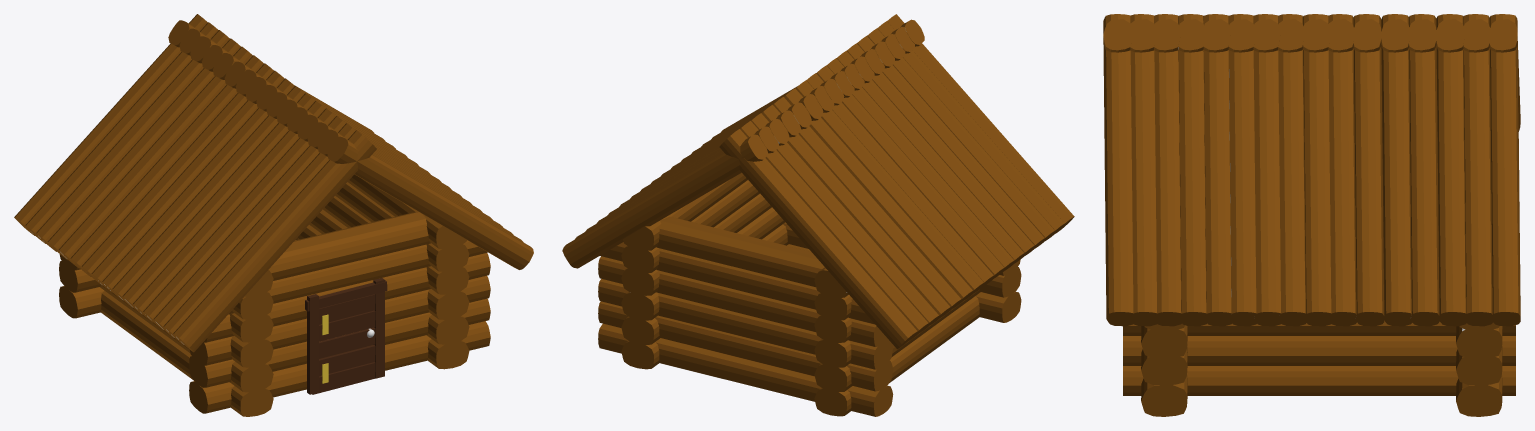
The model's file is HousePerfect 1.fbx.
3 renders of one model, left to right at view 1: azimuth 30°, elevation 25°; view 2: azimuth 150°, elevation 25°; view 3: azimuth 270°, elevation 25°, orthographic. The views are drawn at different scales.
Visible parts, largest first — view 1: Cube.024, Cube.025, Cube.022, Cube.018, Cube.008, Cube.046, Cube.050, Cube.054, Cube.044, Cube.048, Cube.040, Cube.052 (+47 smaller); view 2: Cube.054, Cube.012, Cube.055, Cube.023, Cube.014, Cube.013, Cube.015, Cube.019, Cube.044, Cube.048, Cube.052, Cube.042 (+40 smaller); view 3: Cube.004, Cube.005, Cube.055, Cube.047, Cube.045, Cube.049, Cube.025, Cube.051, Cube.053, Cube.043, Cube.041, Cube.031 (+29 smaller).
Part boxes in pixels (<box>): Cube.024: <box>173,130,376,352</box>; Cube.025: <box>327,136,533,269</box>; Cube.022: <box>268,212,430,280</box>; Cube.018: <box>228,240,487,314</box>; Cube.008: <box>189,321,490,413</box>; Cube.046: <box>58,46,252,268</box>; Cube.050: <box>36,30,229,251</box>; Cube.054: <box>14,14,207,235</box>; Cube.044: <box>70,55,263,276</box>; Cube.048: <box>47,38,240,260</box>; Cube.040: <box>91,70,284,292</box>; Cube.052: <box>25,22,218,243</box>; Cube.054: <box>719,129,917,349</box>; Cube.012: <box>598,323,893,416</box>; Cube.055: <box>562,134,767,268</box>; Cube.023: <box>656,216,824,287</box>; Cube.014: <box>598,279,892,369</box>; Cube.013: <box>598,301,892,391</box>; Cube.015: <box>598,256,887,346</box>; Cube.019: <box>600,242,874,324</box>; Cube.044: <box>784,88,972,308</box>; Cube.048: <box>761,104,950,324</box>; Cube.052: <box>740,121,928,340</box>; Cube.042: <box>795,80,983,299</box>; Cube.004: <box>1123,366,1515,395</box>; Cube.005: <box>1123,336,1515,365</box>; Cube.055: <box>1489,14,1520,326</box>; Cube.047: <box>1381,14,1412,326</box>; Cube.045: <box>1353,14,1384,326</box>; Cube.049: <box>1409,14,1439,326</box>; Cube.025: <box>1103,14,1133,326</box>; Cube.051: <box>1436,14,1466,326</box>; Cube.053: <box>1463,14,1492,326</box>; Cube.043: <box>1328,14,1356,326</box>; Cube.041: <box>1303,14,1331,326</box>; Cube.031: <box>1178,14,1206,326</box>.
Bounding box in the file's own units: 1019 × 717 × 859.
